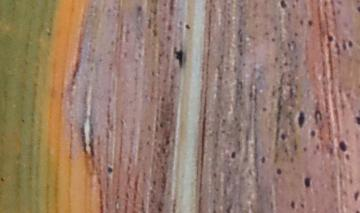tarspot: (171, 44, 186, 69), (312, 108, 323, 126), (296, 110, 305, 130), (330, 41, 342, 56), (352, 188, 360, 204), (338, 137, 347, 151), (303, 175, 311, 188), (308, 128, 317, 138), (325, 33, 334, 43), (105, 165, 114, 174), (346, 38, 354, 48), (340, 38, 346, 51), (354, 115, 360, 127), (229, 150, 236, 160), (289, 199, 295, 210), (279, 1, 287, 9), (306, 19, 314, 27), (275, 167, 282, 176), (298, 18, 305, 27), (260, 155, 266, 165), (273, 54, 279, 64), (279, 132, 285, 141), (270, 35, 276, 44), (301, 145, 308, 152), (136, 5, 143, 12), (184, 22, 190, 30), (260, 106, 268, 112), (344, 152, 350, 160), (292, 31, 299, 37), (355, 4, 360, 12), (300, 202, 305, 209), (1, 176, 6, 182), (20, 118, 25, 124), (46, 31, 50, 38), (355, 209, 360, 213)
